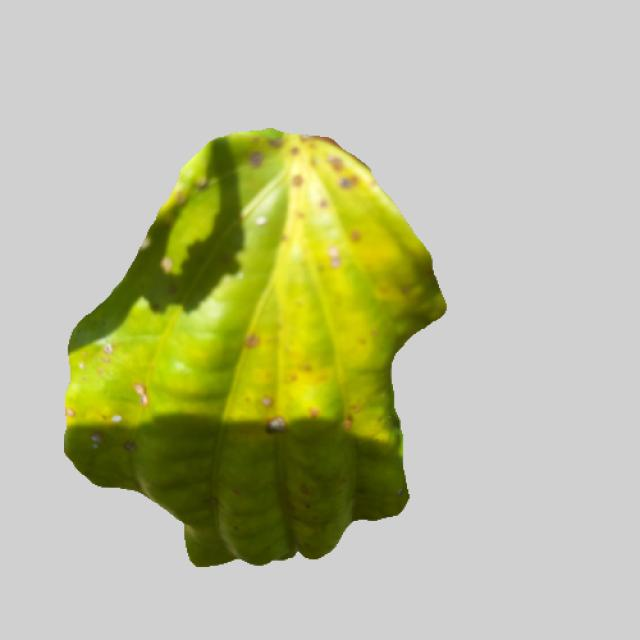yellow-mottle-virus: (50, 137, 442, 563)
